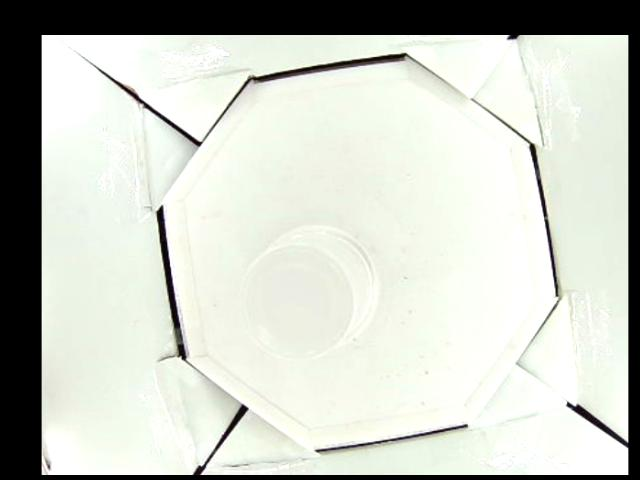Cup: (238, 221, 382, 360)
